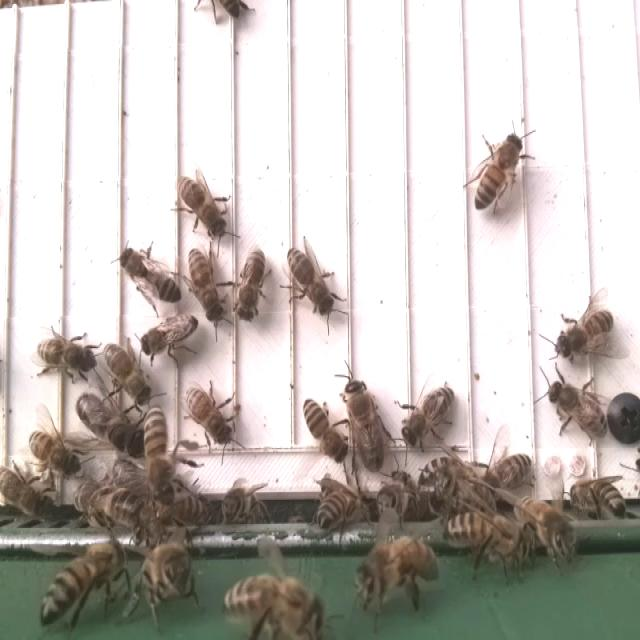Drone: (73, 388, 147, 463), (341, 374, 390, 477)
Worker: (470, 129, 526, 215), (116, 243, 185, 310), (542, 376, 607, 441), (285, 243, 338, 321), (182, 383, 241, 449), (175, 171, 229, 240), (553, 306, 618, 362), (186, 245, 227, 331), (402, 385, 457, 447), (102, 342, 155, 405), (34, 326, 98, 377), (144, 404, 175, 504), (25, 426, 82, 480), (138, 308, 198, 359), (301, 394, 346, 462), (231, 245, 268, 326), (477, 448, 534, 494)
